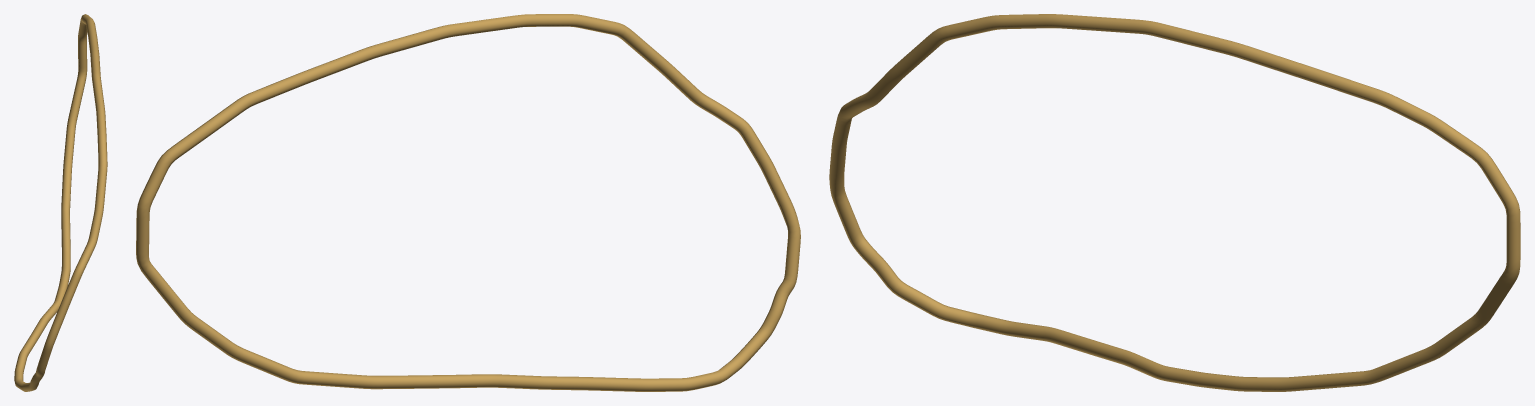
3 renders of one model, left to right at view 1: azimuth 30°, elevation 25°; view 2: azimuth 150°, elevation 25°; view 3: azimuth 270°, elevation 25°, orthographic. The views are drawn at different scales.
Parts seen in each view (by area): view 1: 右侧轮匝带; view 2: 右侧轮匝带; view 3: 右侧轮匝带.
Boxes of the visible parts, x1,y1,x2,y2 form: 右侧轮匝带: [14, 14, 107, 391]; 右侧轮匝带: [136, 14, 800, 391]; 右侧轮匝带: [829, 14, 1520, 391].
Bounding box in the file's own units: 0.0455 × 0.0437 × 0.0663.
